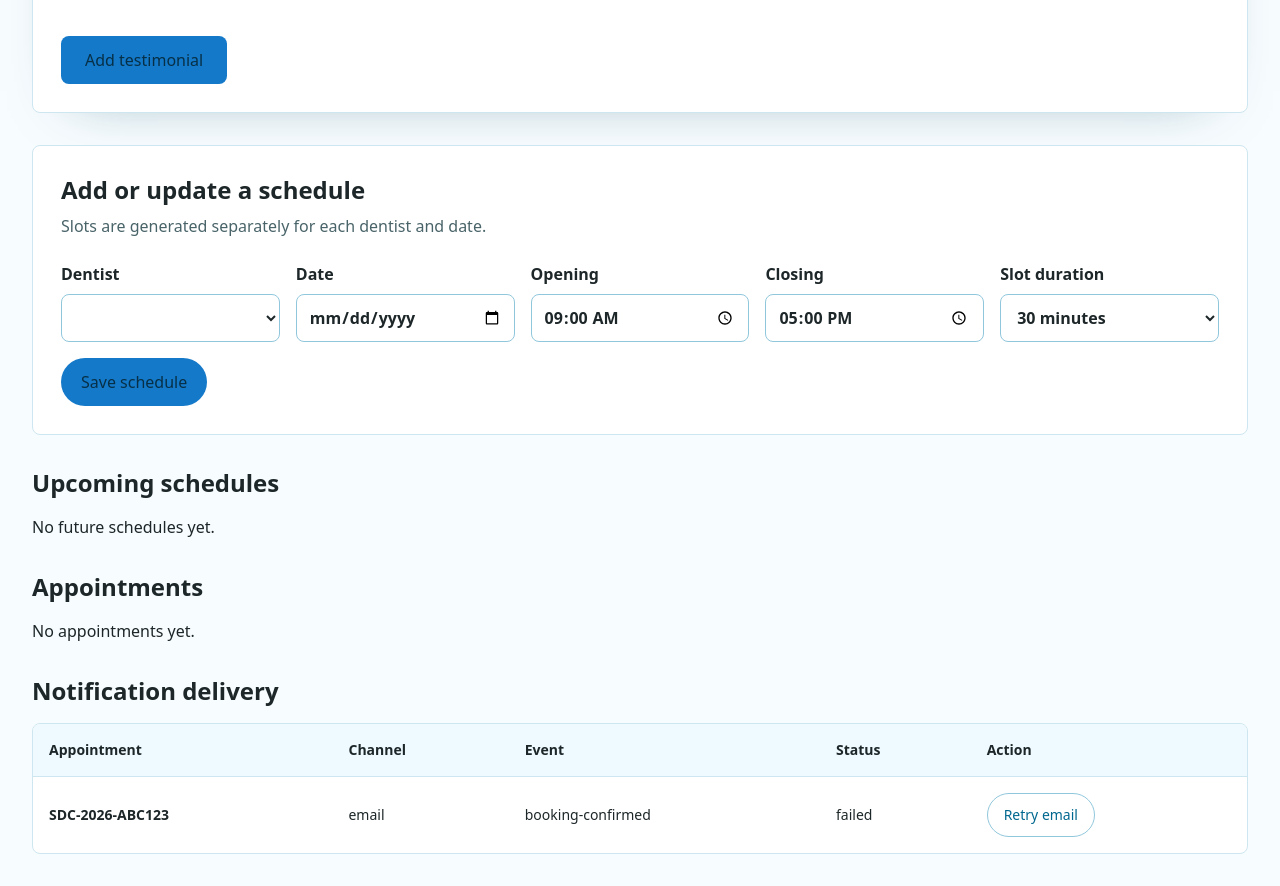
AdminDashboard › offers a retry control for failed email delivery
The image size is (1280, 886).
(page scrolled)
Click the button "Retry email" at {"x": 1041, "y": 815}, box [987, 793, 1095, 837]
(page scrolled)
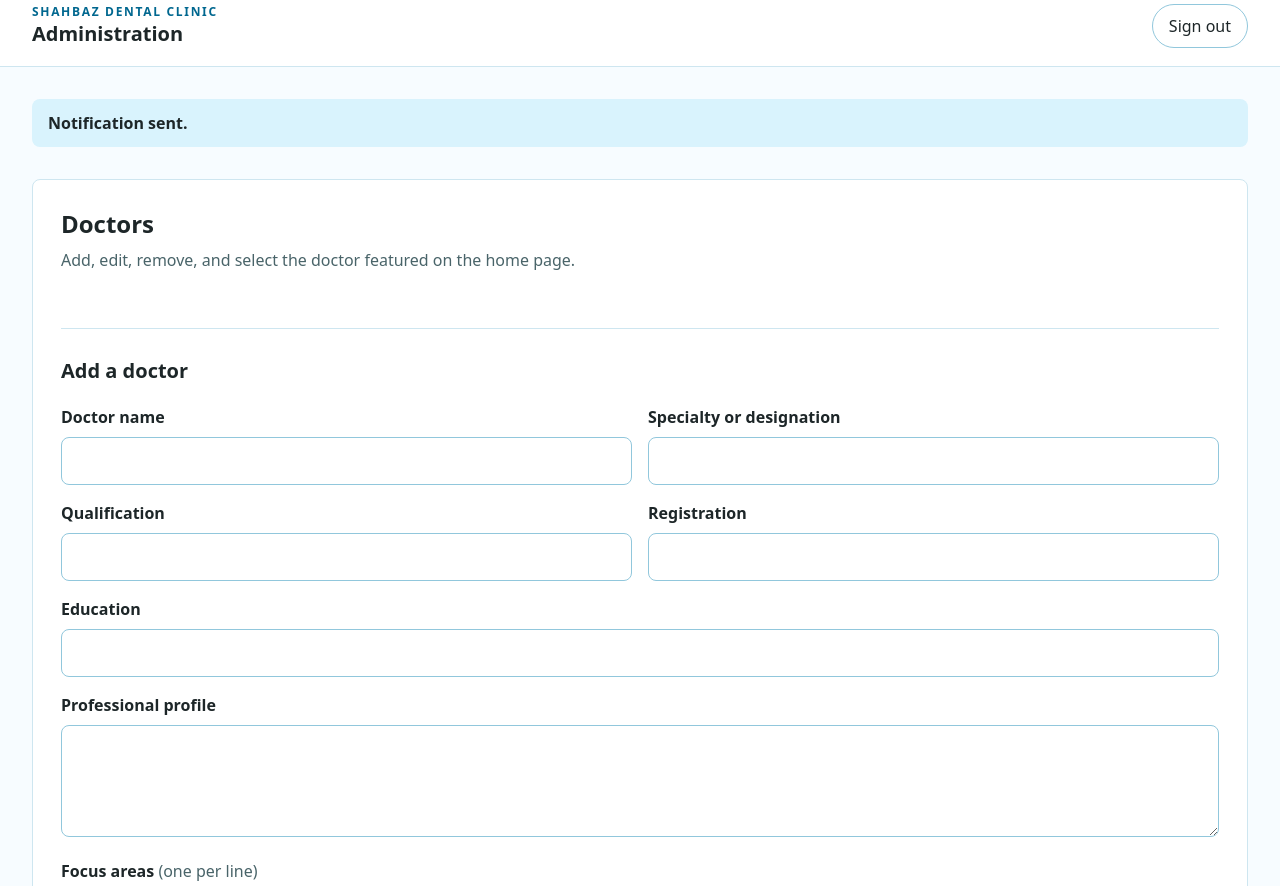
Expected: the message reads "Notification sent.", [48, 112, 188, 134]
Expected: the button "Retry email" is gone
